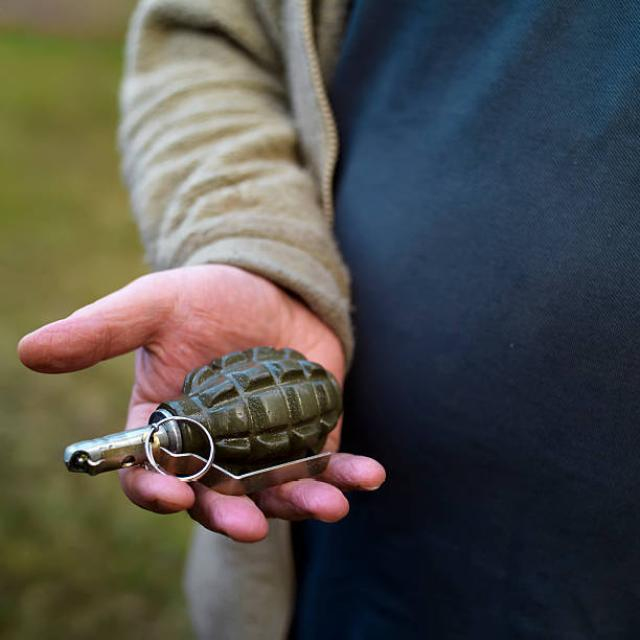grenade: (60, 341, 346, 499)
